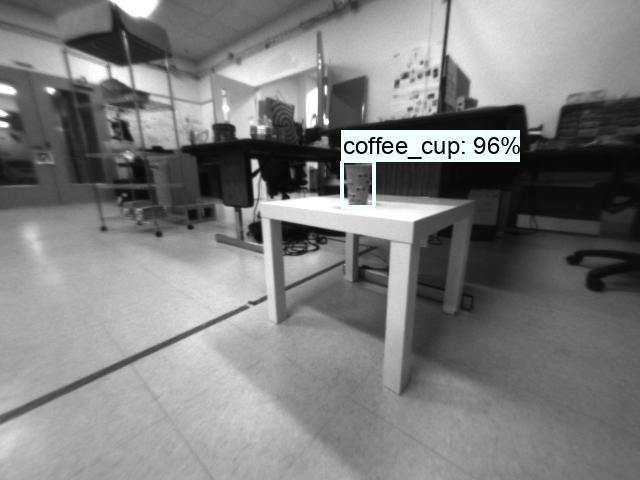coffee_cup: (342, 163, 374, 208)
